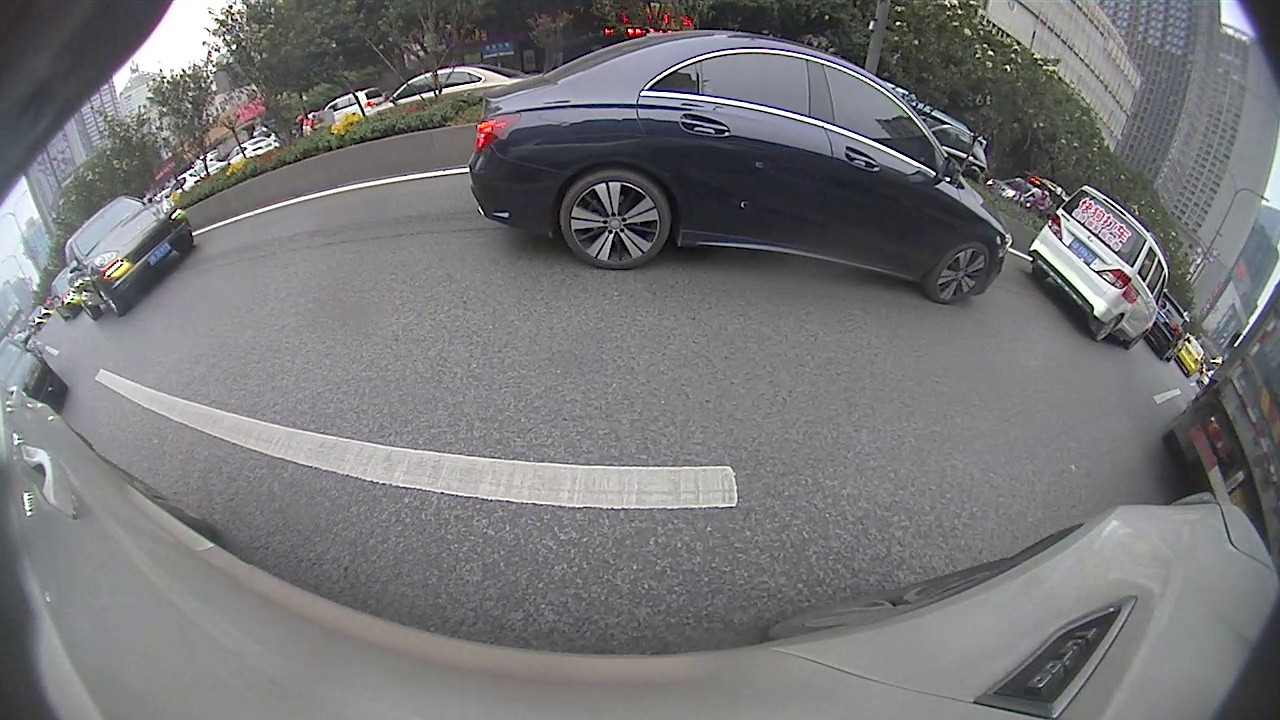car: (1, 278, 220, 470), (682, 132, 842, 230), (431, 159, 536, 221), (582, 142, 650, 200), (528, 156, 575, 195)
front: (112, 327, 201, 426), (683, 181, 695, 207)
person: (845, 146, 858, 194)
rear: (708, 184, 729, 223), (498, 188, 512, 213)
